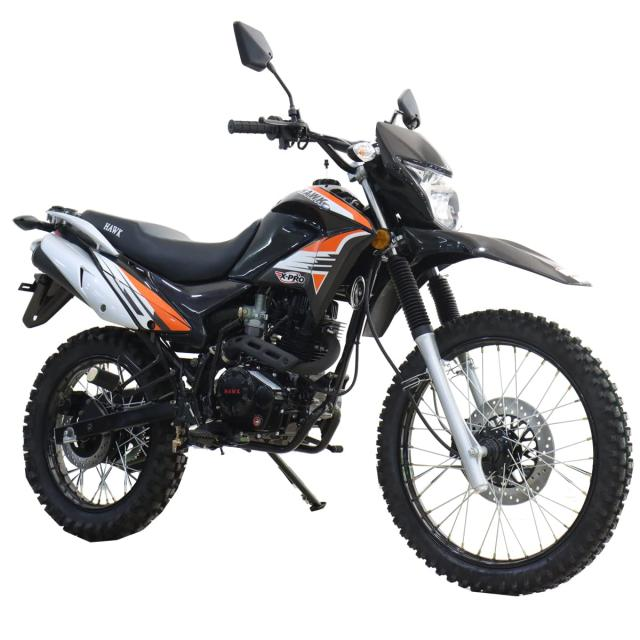Motorcycle: (14, 91, 631, 595)
